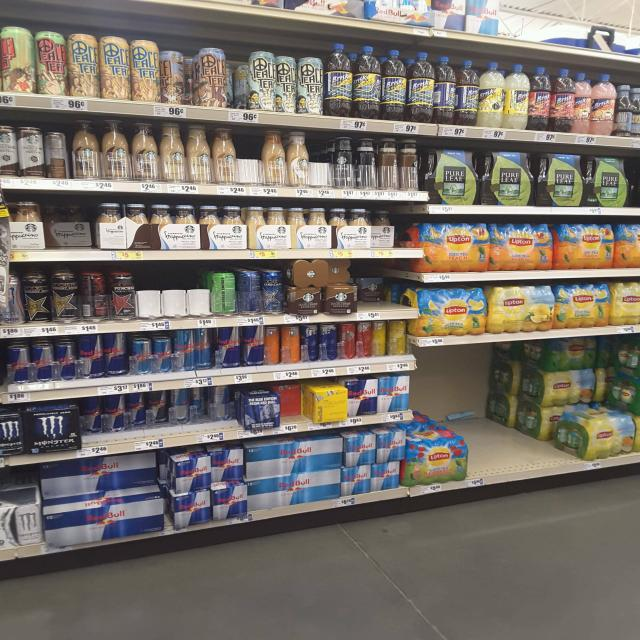void: (471, 357, 506, 482), (511, 353, 543, 481), (237, 122, 263, 196), (183, 44, 206, 123), (552, 406, 572, 475), (314, 130, 334, 198), (163, 271, 186, 328), (227, 45, 244, 121), (140, 271, 160, 333), (388, 264, 411, 315), (190, 270, 209, 328)
